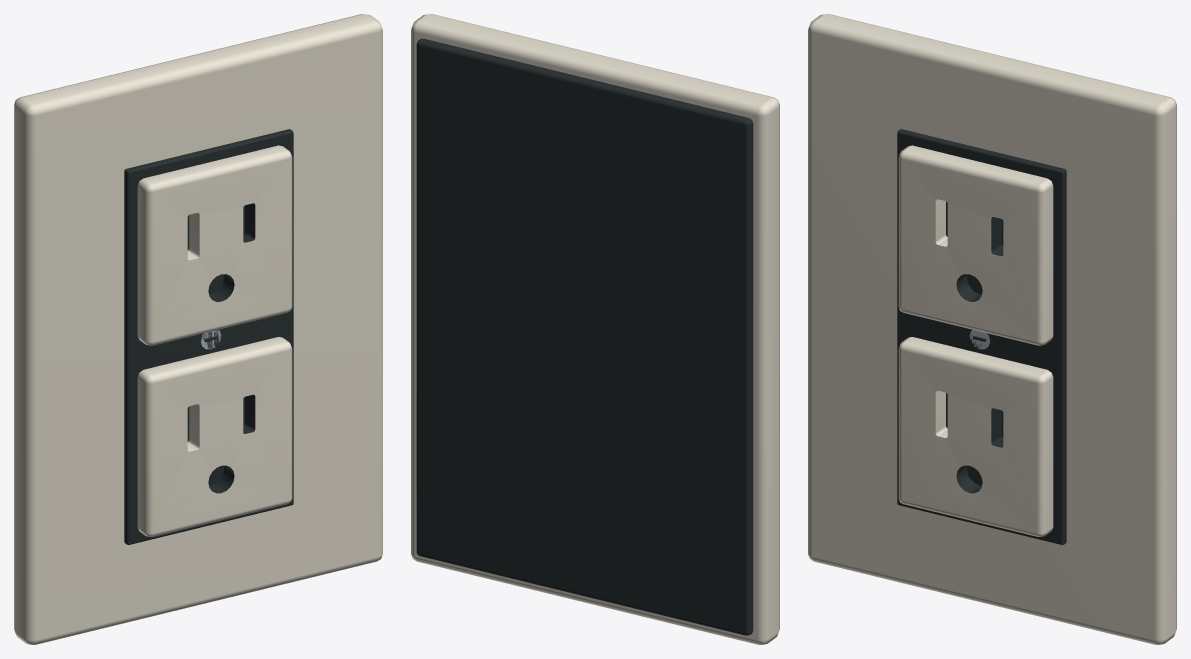
File: duplex-electrical-outlet-plate.glb
The picture shows the model from 3 angles, left to right: view 1: azimuth 30°, elevation 25°; view 2: azimuth 150°, elevation 25°; view 3: azimuth 330°, elevation 25°; orthographic projection.
Parts seen in each view (by area): view 1: catalog_surface_RealismUV, catalog_surface_UVMap; view 2: catalog_surface_UVMap, catalog_surface_RealismUV; view 3: catalog_surface_RealismUV, catalog_surface_UVMap.
Boxes of the visible parts, x1,y1,x2,y2 form: catalog_surface_RealismUV: [14, 14, 382, 644]; catalog_surface_UVMap: [124, 129, 293, 544]; catalog_surface_UVMap: [416, 38, 753, 635]; catalog_surface_RealismUV: [411, 14, 779, 644]; catalog_surface_RealismUV: [808, 14, 1176, 644]; catalog_surface_UVMap: [897, 129, 1066, 544].
Size of the model in its own units: 0.09 by 0.13 by 0.016.
